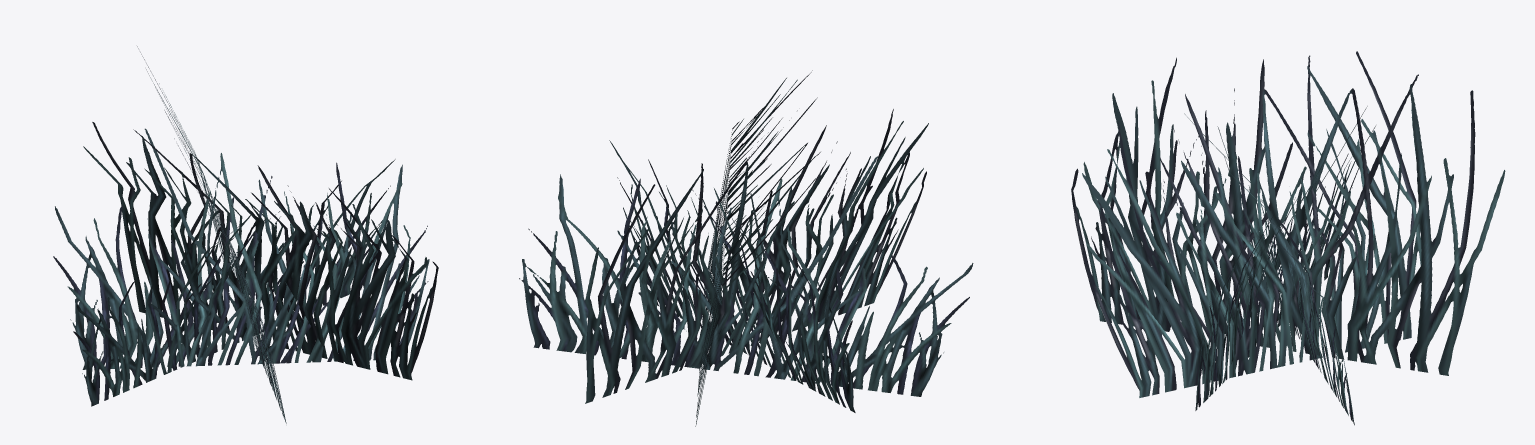
The model's file is SM_GrassTuft.FBX.
The picture shows the model from 3 angles, left to right: view 1: azimuth 30°, elevation 25°; view 2: azimuth 150°, elevation 25°; view 3: azimuth 270°, elevation 25°; orthographic projection. The views are drawn at different scales.
Parts seen in each view (by area): view 1: SM_GrassTuft; view 2: SM_GrassTuft; view 3: SM_GrassTuft.
Part boxes in pixels (box(x1,y1,x2,y2)): SM_GrassTuft: box(53, 46, 438, 423); SM_GrassTuft: box(519, 70, 973, 426); SM_GrassTuft: box(1071, 51, 1505, 425).
Bounding box in the file's own units: 15.38 × 8.72 × 14.12.
Materials: 1 (1 with a texture image).
